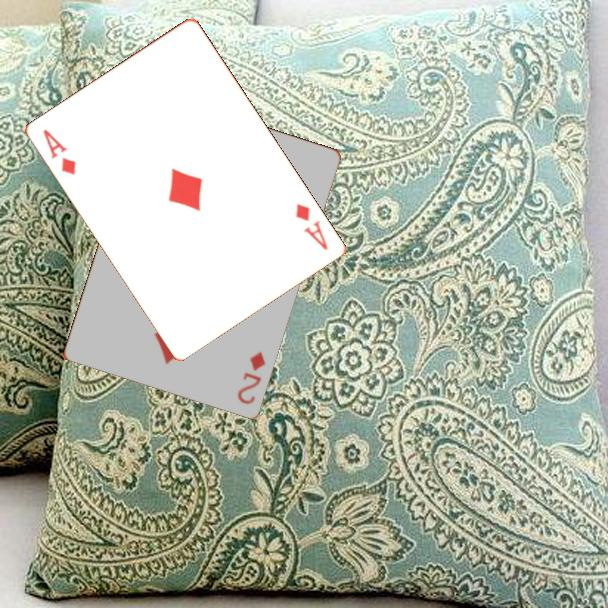d01: (39, 125, 79, 178), (291, 200, 331, 253)
d02: (233, 348, 268, 407)
